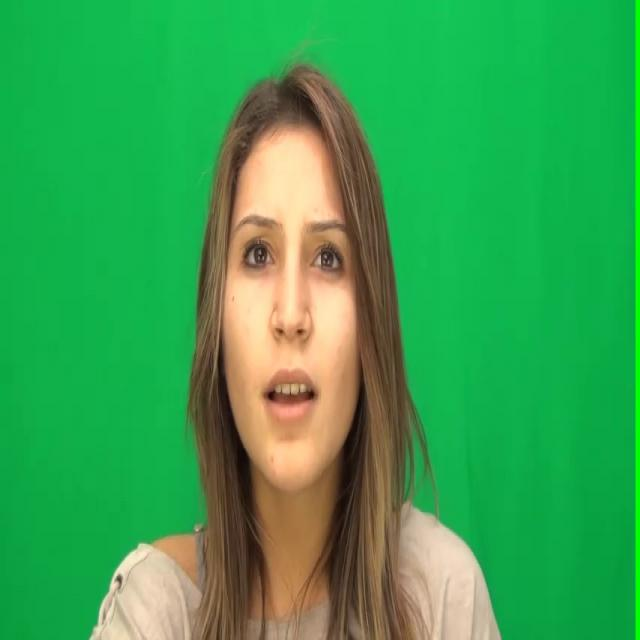Engaged: (221, 130, 362, 482)
